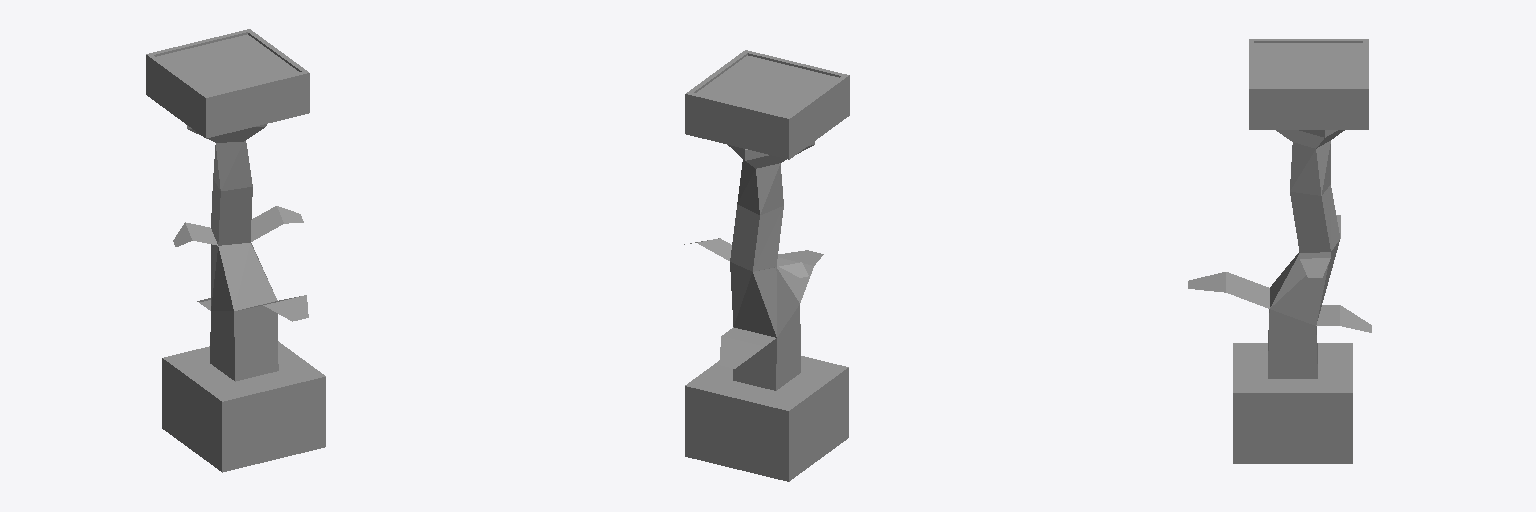
File: generator.obj
3 renders of one model, left to right at view 1: azimuth 30°, elevation 25°; view 2: azimuth 150°, elevation 25°; view 3: azimuth 270°, elevation 25°, orthographic.
Visible parts, largest first — view 1: Cube; view 2: Cube; view 3: Cube.
Boxes of the visible parts, x1,y1,x2,y2 form: Cube: [146, 29, 325, 472]; Cube: [684, 50, 849, 481]; Cube: [1188, 39, 1371, 463].
Size of the model in its own units: 2.53 by 6.81 by 3.08.